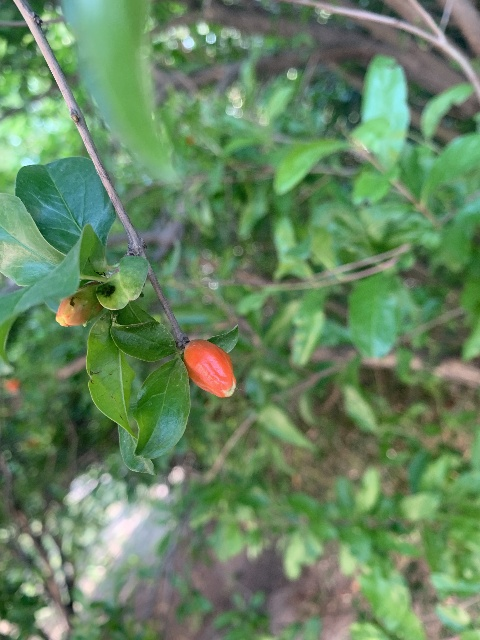bud: (183, 339, 235, 397), (55, 284, 103, 326)
